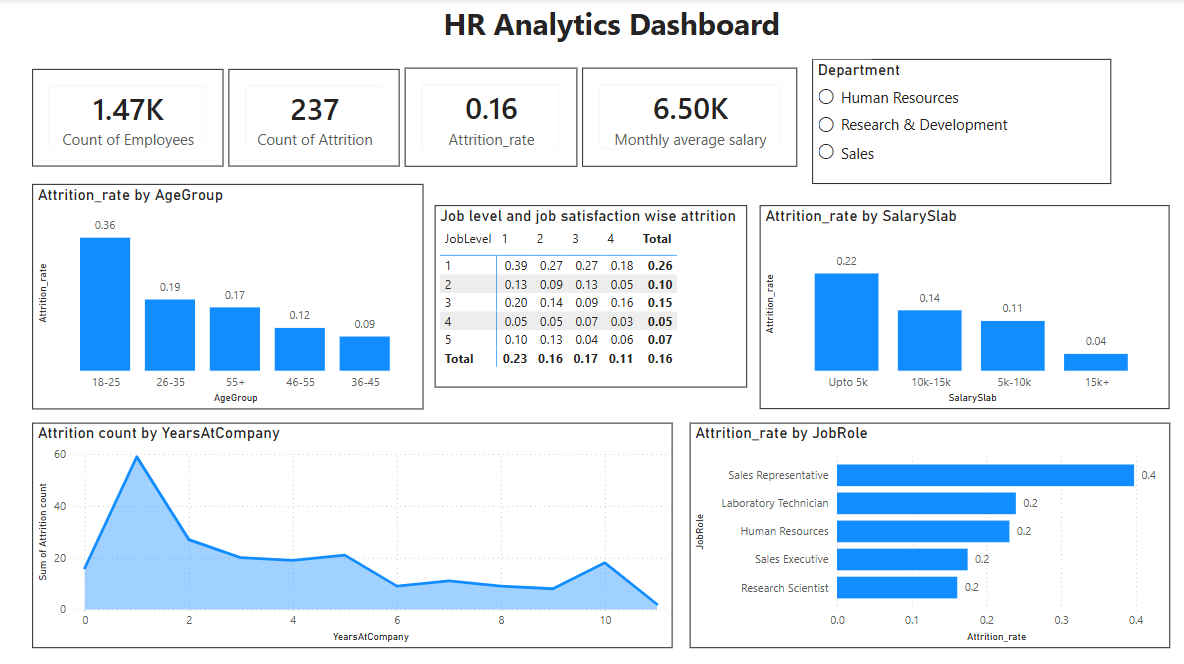

Layout of this report page (visuals, bound fields, positions):
{"tool":"powerbi","page":{"name":"Page 1","canvas":[1280,720],"ordinal":0},"visuals":[{"type":"cardVisual","fields":{"Data":["Count(HR_Analytics.EmpID)"]},"box":[39,75.3,205.8,104.9],"z":0},{"type":"cardVisual","fields":{"Data":["Sum(HR_Analytics.Attrition count)"]},"box":[250.1,75.3,184.2,104.9],"z":1000},{"type":"cardVisual","fields":{"Data":["HR_Analytics.Attrition_rate"]},"box":[439.8,74,185.6,106.2],"z":2000},{"type":"cardVisual","fields":{"Data":["Avg(HR_Analytics.MonthlyIncome)"]},"box":[630.7,74,231.3,106.2],"z":3000},{"type":"pivotTable","title":"Job level and job satisfaction wise attrition","fields":{"Rows":["HR_Analytics.JobLevel"],"Columns":["HR_Analytics.JobSatisfaction"],"Values":["HR_Analytics.Attrition_rate"]},"box":[472,221.9,336.2,196.3],"z":4000},{"type":"columnChart","fields":{"Category":["HR_Analytics.AgeGroup"],"Y":["HR_Analytics.Attrition_rate"]},"box":[39,199,420.9,242.1],"z":5000},{"type":"areaChart","title":"Attrition count by YearsAtCompany","fields":{"Category":["HR_Analytics.YearsAtCompany"],"Y":["Sum(HR_Analytics.Attrition count)"]},"box":[39,455.9,688.6,242.1],"z":6000},{"type":"columnChart","fields":{"Y":["HR_Analytics.Attrition_rate"],"Category":["HR_Analytics.SalarySlab"]},"box":[821.7,221.9,441.1,219.2],"z":7000},{"type":"clusteredBarChart","fields":{"Category":["HR_Analytics.JobRole"],"Y":["HR_Analytics.Attrition_rate"]},"box":[746.4,455.9,516.4,242.1],"z":8000},{"type":"listSlicer","fields":{"Values":["HR_Analytics.Department"]},"box":[878.2,64.6,321.4,134.5],"z":9000},{"type":"textbox","box":[383.3,0,558.1,64.6],"z":10000}]}

Visuals, with their boxes in screenshot pixels (x1, y1, x2, y2), scaled from the page's 1280x720 canvas onto the 1184x664 screenshot:
cardVisual - Count(HR_Analytics.EmpID): pyautogui.locateOnScreen(36, 69, 226, 166)
cardVisual - Sum(HR_Analytics.Attrition count): pyautogui.locateOnScreen(231, 69, 402, 166)
cardVisual - HR_Analytics.Attrition_rate: pyautogui.locateOnScreen(407, 68, 578, 166)
cardVisual - Avg(HR_Analytics.MonthlyIncome): pyautogui.locateOnScreen(583, 68, 797, 166)
"Job level and job satisfaction wise attrition" pivotTable: pyautogui.locateOnScreen(437, 205, 748, 386)
columnChart - HR_Analytics.AgeGroup x HR_Analytics.Attrition_rate: pyautogui.locateOnScreen(36, 184, 425, 407)
"Attrition count by YearsAtCompany" areaChart: pyautogui.locateOnScreen(36, 420, 673, 644)
columnChart - HR_Analytics.Attrition_rate x HR_Analytics.SalarySlab: pyautogui.locateOnScreen(760, 205, 1168, 407)
clusteredBarChart - HR_Analytics.JobRole x HR_Analytics.Attrition_rate: pyautogui.locateOnScreen(690, 420, 1168, 644)
listSlicer - HR_Analytics.Department: pyautogui.locateOnScreen(812, 60, 1110, 184)
textbox: pyautogui.locateOnScreen(355, 0, 871, 60)
